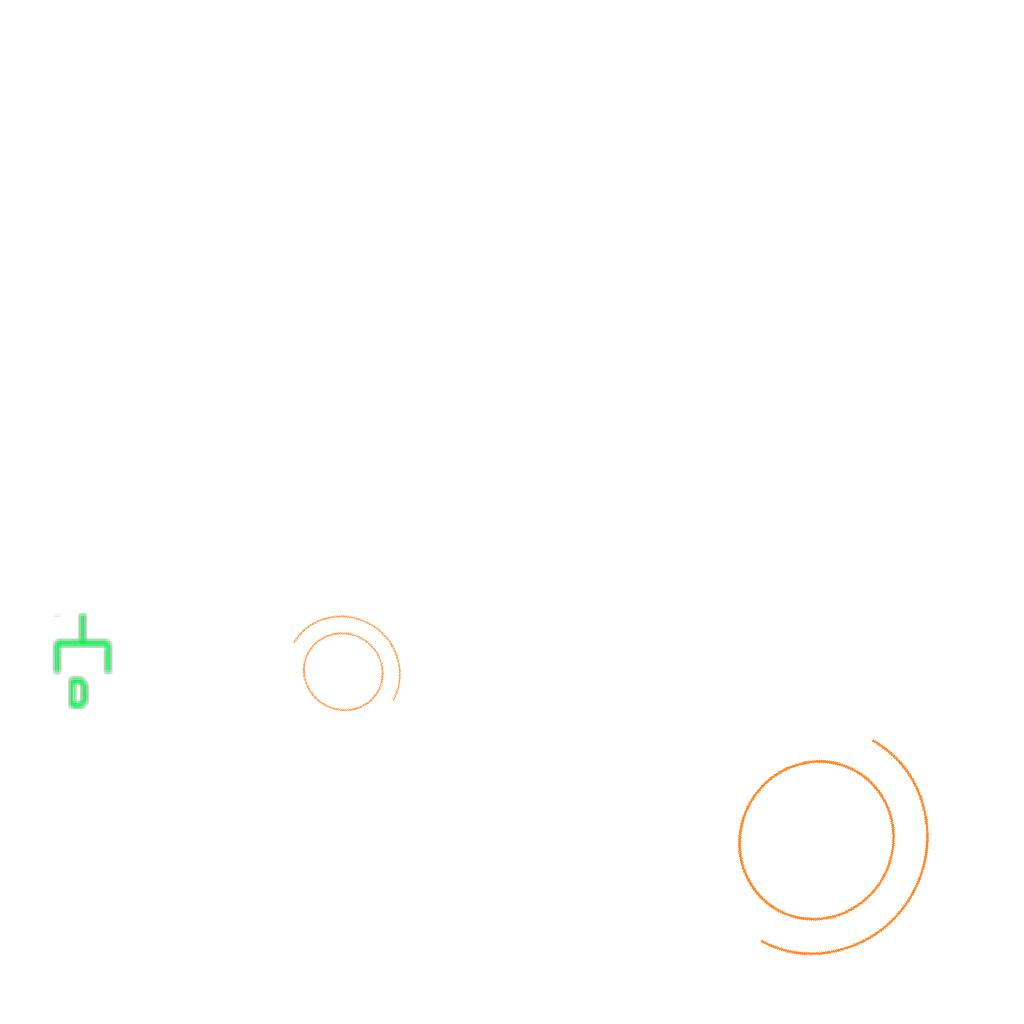Datenanschluss_einfach: (50, 611, 119, 711)
Scheinwerfer_fuer_Alarmbeleuchtung: (665, 669, 991, 1010), (257, 584, 429, 748)
